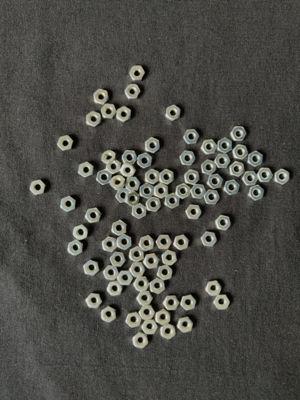nut: (177, 317, 194, 334), (133, 332, 149, 350), (163, 295, 180, 311), (86, 293, 103, 309), (150, 278, 166, 295), (73, 224, 89, 241), (215, 215, 232, 231), (132, 203, 148, 220), (97, 169, 113, 186), (57, 135, 74, 151), (248, 151, 264, 168), (232, 145, 249, 161), (183, 129, 200, 145), (145, 137, 161, 154), (86, 111, 102, 128), (101, 306, 116, 324), (129, 66, 147, 81), (160, 324, 176, 340), (126, 312, 142, 328), (214, 295, 230, 311), (206, 281, 222, 297), (181, 295, 197, 311), (107, 281, 123, 297), (157, 265, 173, 281), (84, 260, 100, 276), (129, 246, 145, 262), (102, 237, 118, 253), (139, 236, 155, 252), (174, 235, 190, 251), (146, 197, 162, 213), (78, 162, 94, 178), (249, 185, 265, 201), (224, 180, 240, 196), (208, 174, 224, 190), (230, 161, 246, 177), (142, 320, 159, 335), (156, 309, 171, 326), (117, 271, 134, 286), (129, 263, 146, 278), (110, 252, 127, 267), (117, 234, 132, 251), (156, 235, 173, 250), (85, 208, 102, 223), (61, 196, 76, 213), (201, 232, 218, 247), (140, 183, 155, 200), (165, 193, 180, 210), (257, 168, 274, 183), (120, 163, 137, 178), (166, 105, 181, 122), (137, 291, 153, 306), (134, 277, 150, 292), (104, 266, 120, 281), (68, 240, 83, 256), (144, 254, 160, 269), (162, 250, 177, 266), (112, 220, 127, 236), (30, 180, 46, 195), (186, 205, 202, 220), (125, 191, 140, 207), (110, 176, 126, 191), (275, 169, 290, 185), (204, 190, 220, 205), (184, 170, 200, 185), (215, 154, 231, 169), (202, 160, 217, 176), (218, 138, 233, 154), (202, 140, 218, 155), (180, 151, 196, 166), (138, 153, 153, 169), (101, 104, 117, 119), (94, 89, 109, 105), (125, 84, 141, 99), (139, 306, 156, 320), (242, 172, 259, 186), (177, 183, 191, 200), (117, 106, 131, 123), (106, 160, 121, 175), (102, 151, 117, 166), (155, 183, 169, 199), (125, 177, 141, 191), (191, 185, 207, 199), (145, 169, 159, 185), (231, 127, 247, 141), (122, 151, 138, 165), (116, 188, 130, 203), (160, 170, 174, 185)
